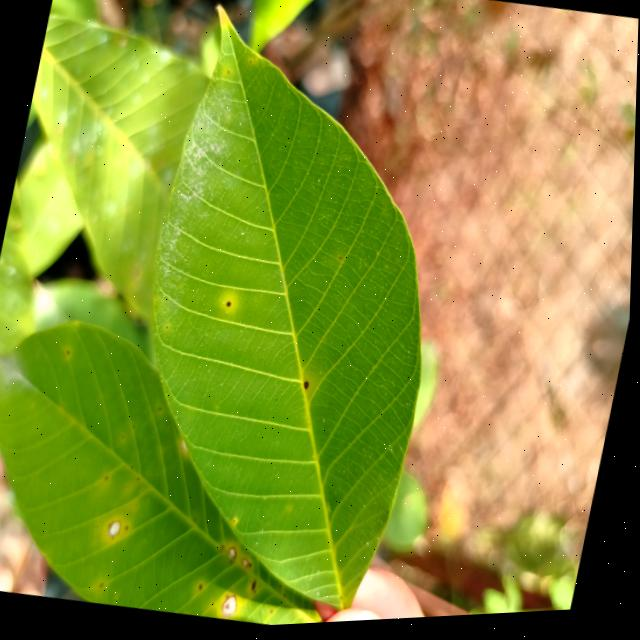Colletotrichum: (305, 383, 311, 393), (227, 304, 232, 309)
